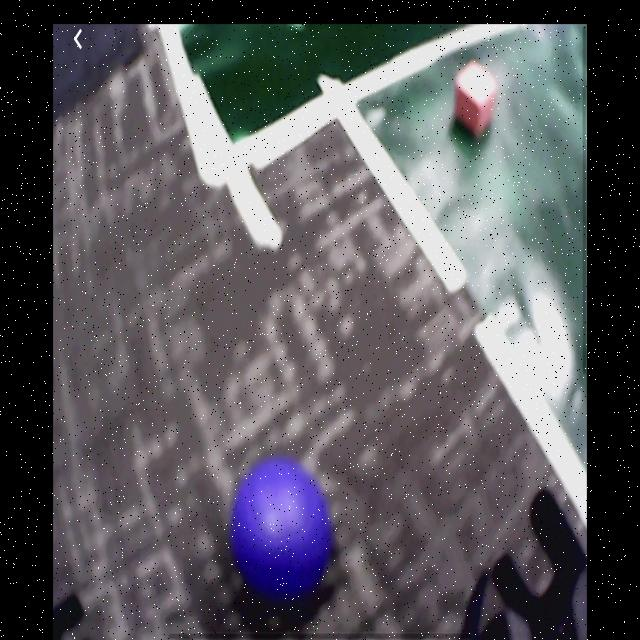ball: (230, 458, 330, 596)
